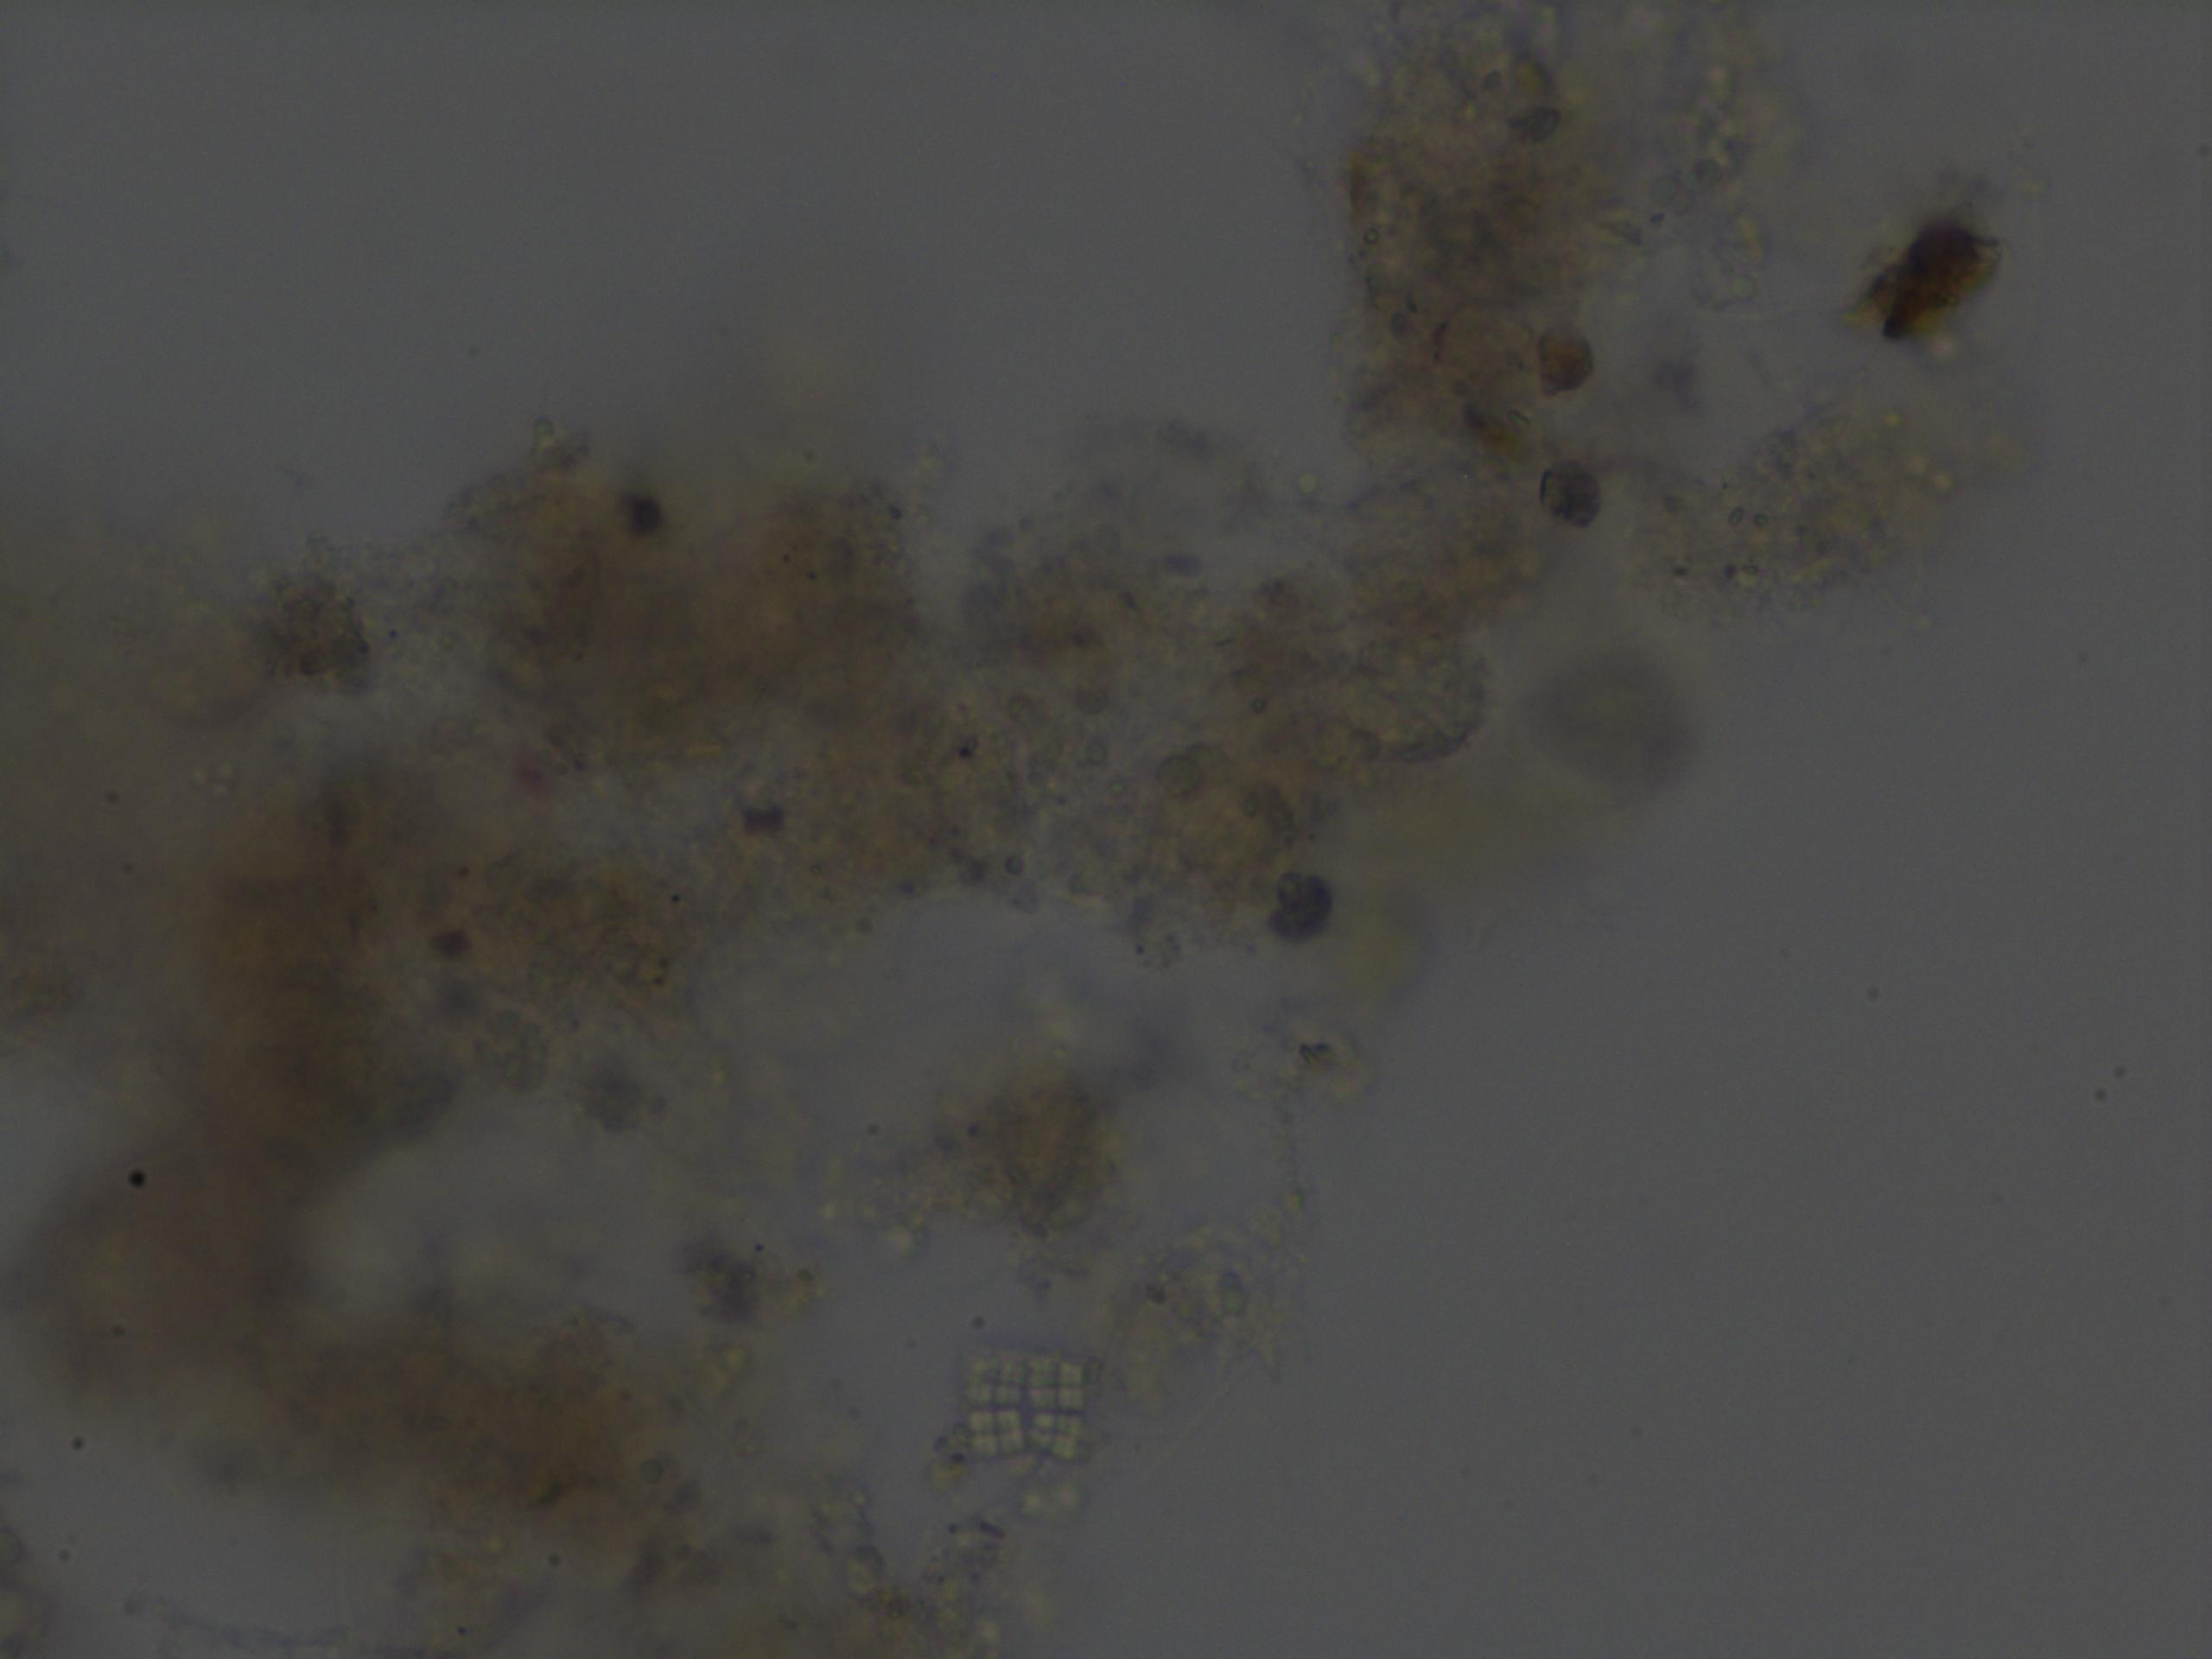spherical_floc: (0, 0, 2043, 1659)
